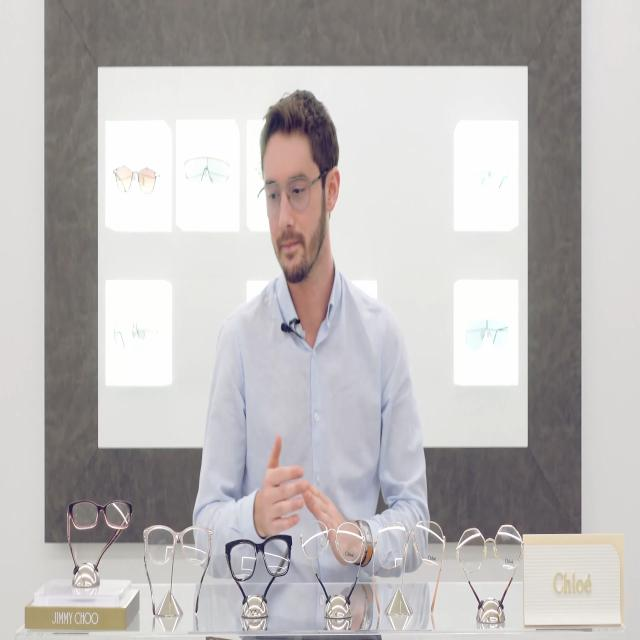dress: (193, 265, 431, 584)
glasses: (260, 172, 308, 216)
